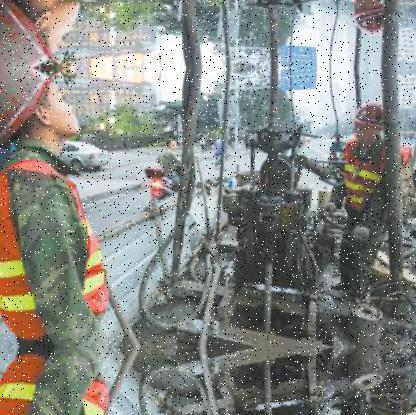helmet: (3, 73, 92, 158), (3, 0, 93, 62), (355, 97, 384, 138), (355, 0, 385, 38)
